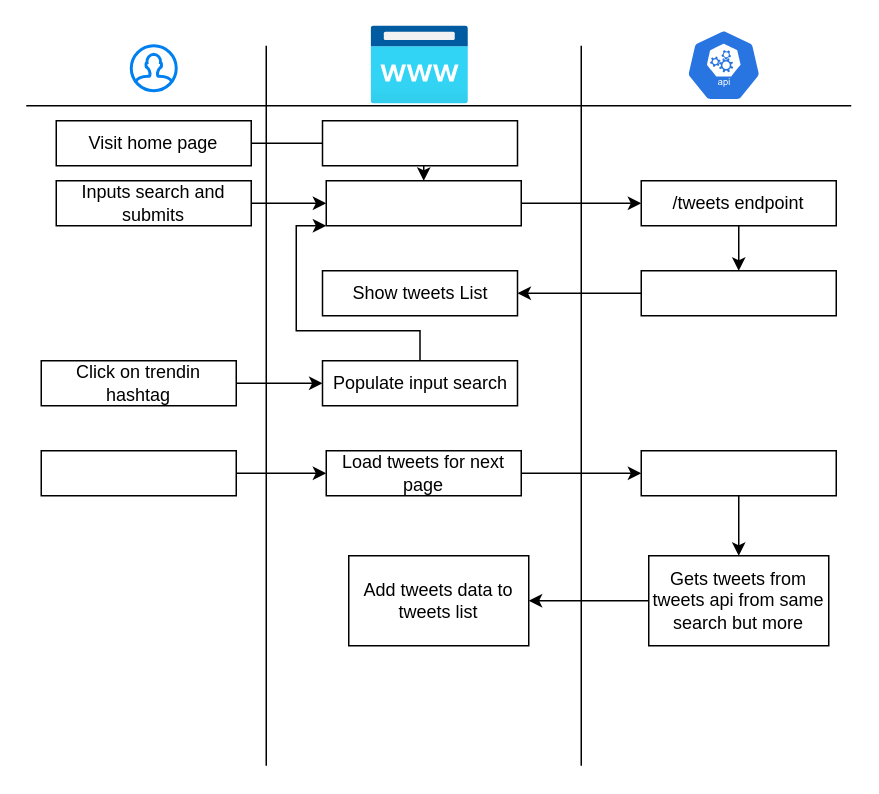
The diagram is 879 pixels wide and 794 high, and some of its shapes have lost their labels. The shapes that lost their labels are listed below. From the top down, each one's centre as x and y in pixels, then its label:
At point (419, 142): "Home Page Render".
At point (423, 202): "Get Tweets on user search".
At point (738, 292): "Get tweets from Tweets API".
At point (138, 472): "Next page click".
At point (738, 472): "Endpoints for next tweet page".
